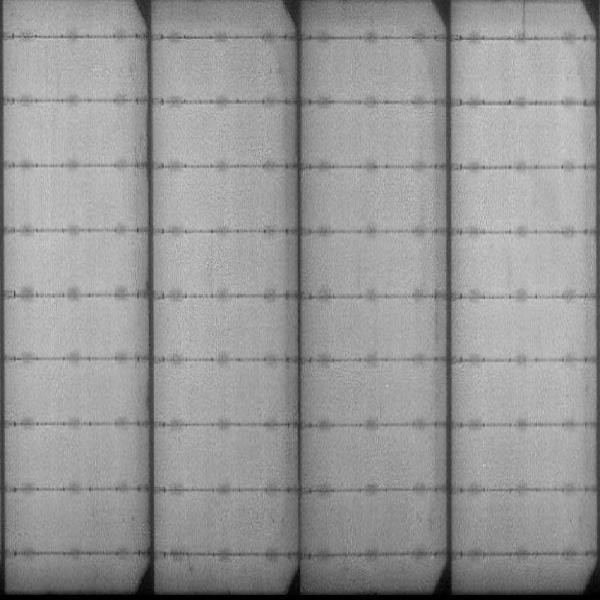scratch: (518, 1, 531, 34)
